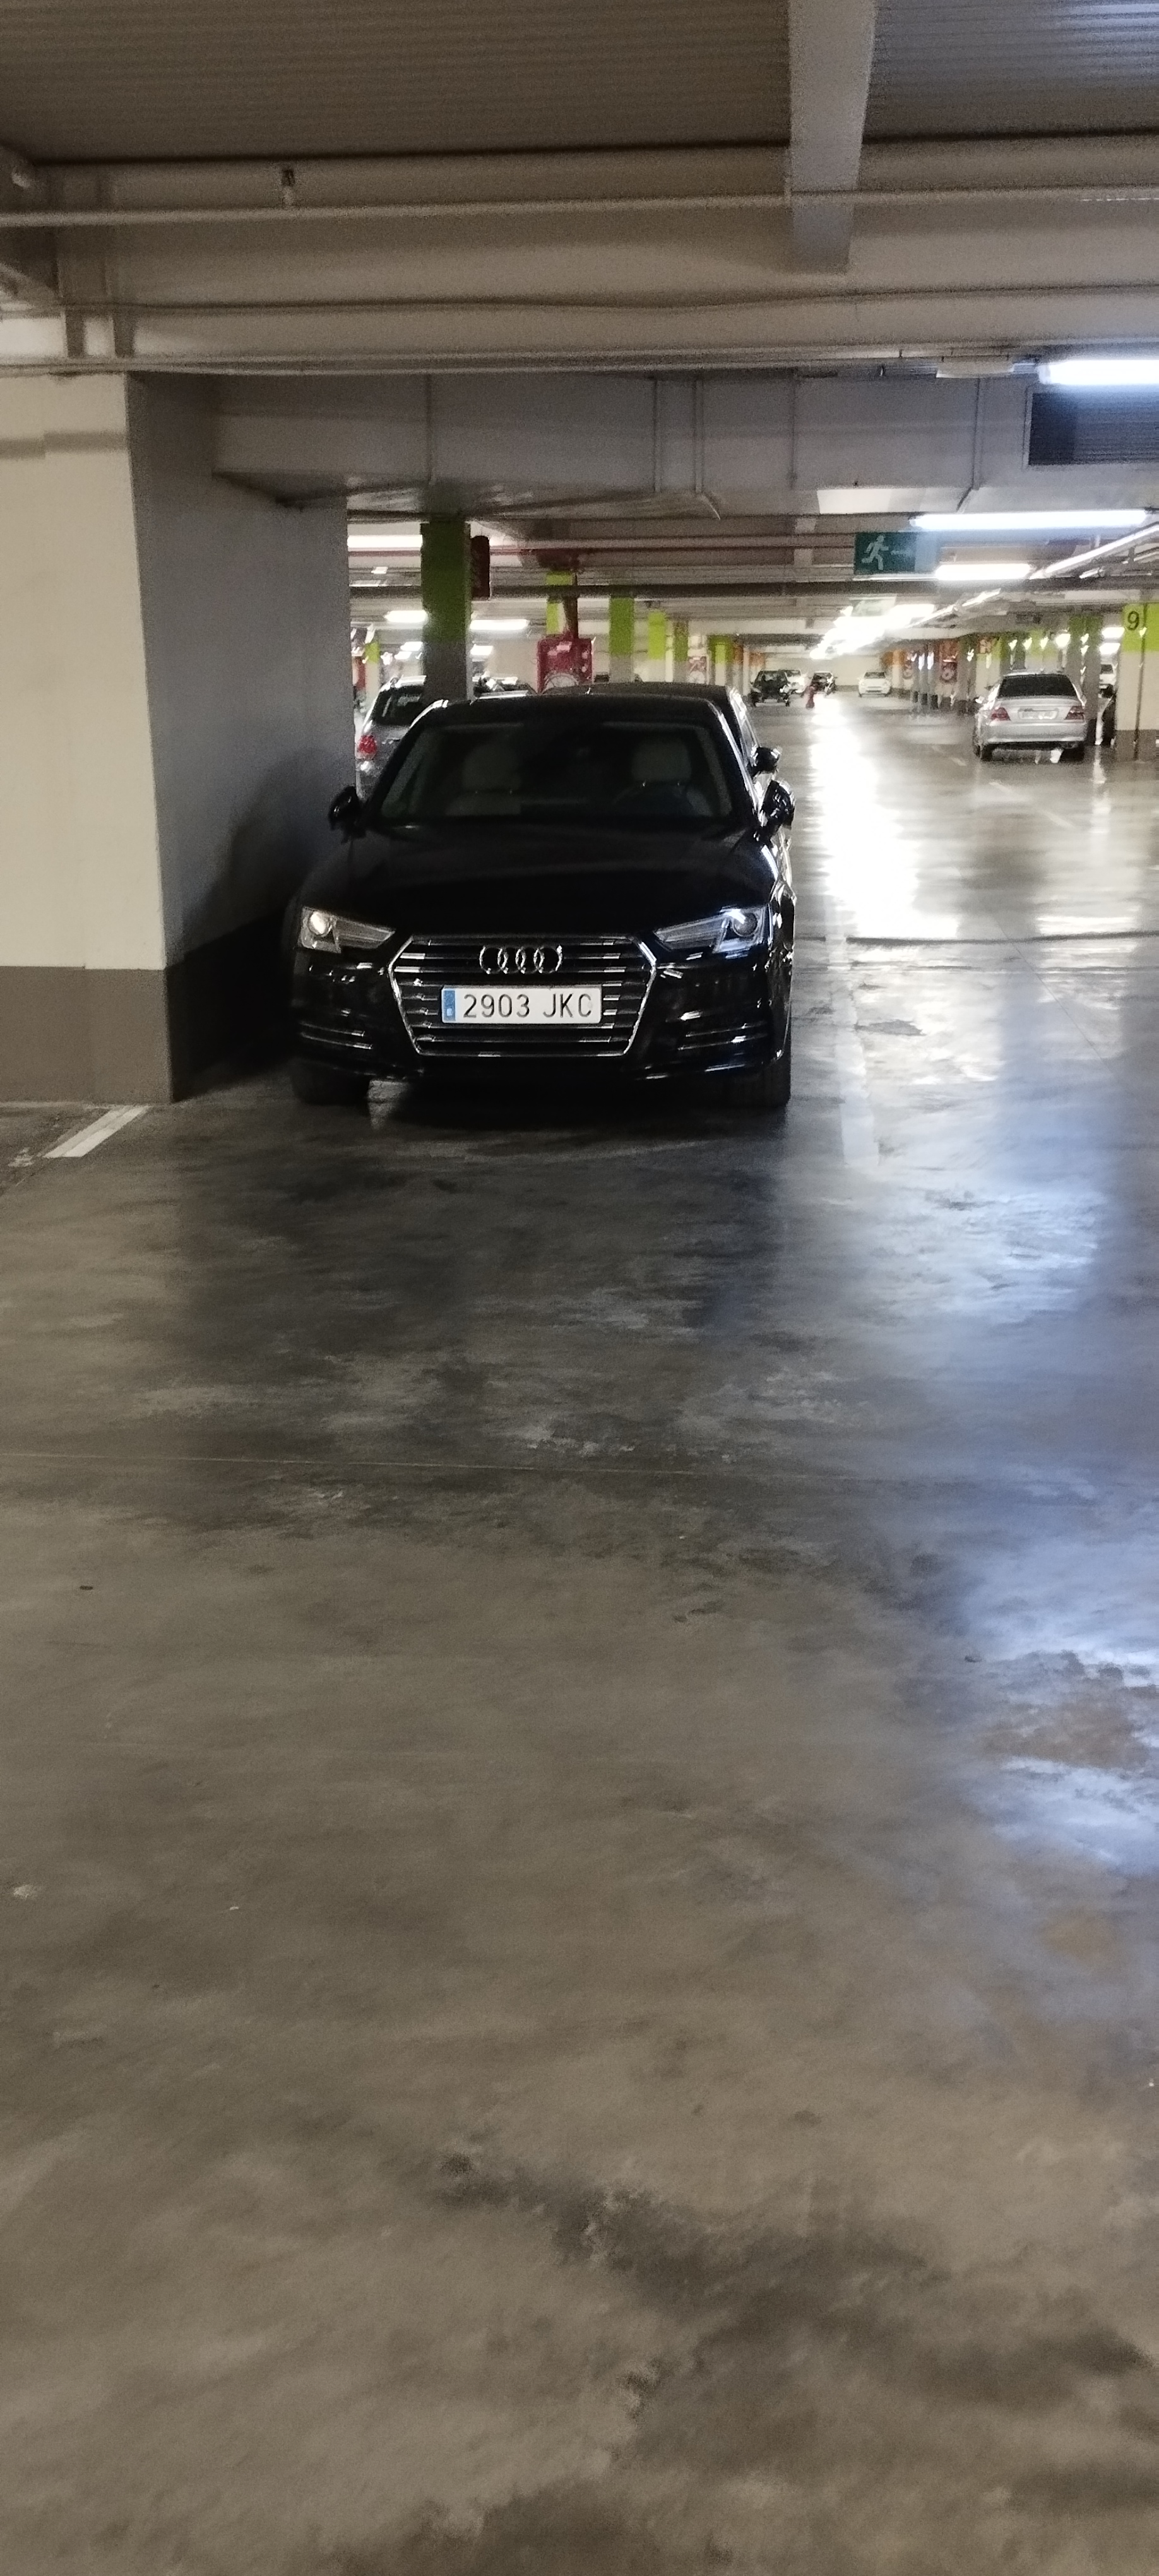Car: (297, 687, 791, 1103)
Plate: (436, 981, 602, 1025)
